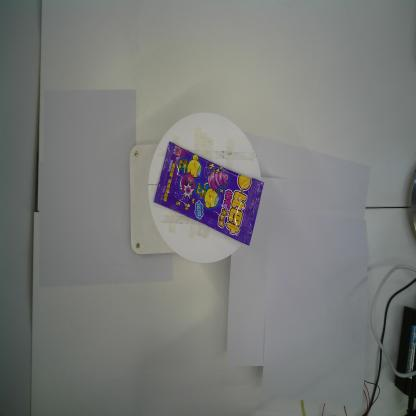Candy: (152, 140, 266, 247)
